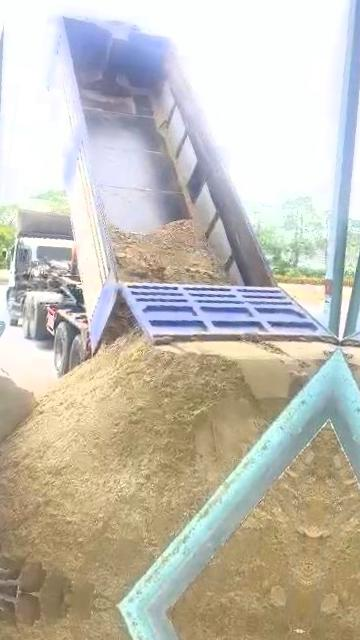sand: (0, 332, 285, 605), (176, 430, 327, 629), (114, 222, 226, 283), (215, 342, 306, 398), (0, 364, 36, 455), (100, 295, 135, 345)
